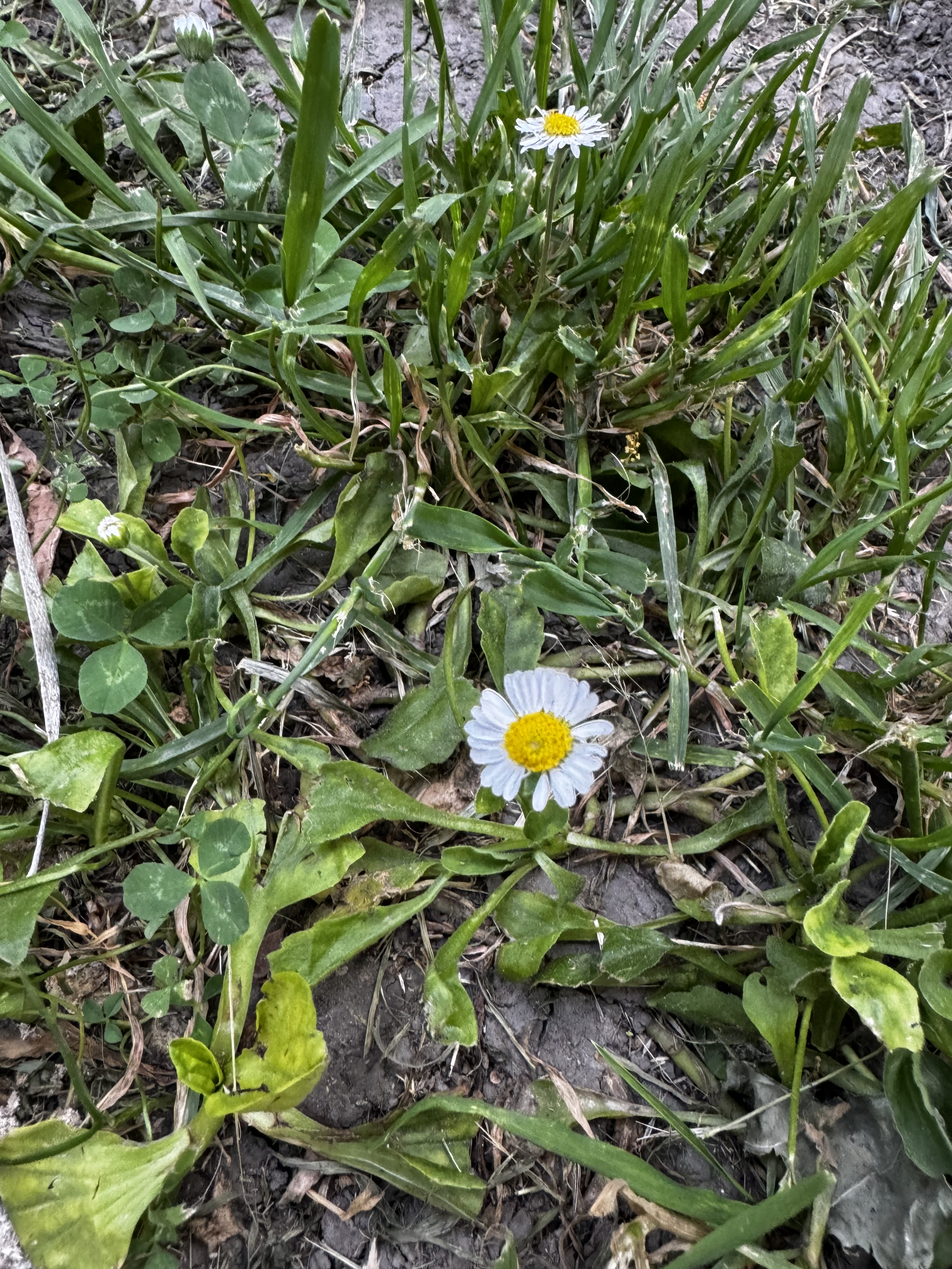daisy: (456, 670, 637, 829), (510, 96, 615, 183)
